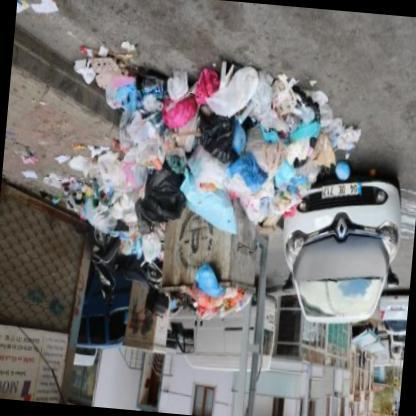Garbage: (169, 49, 324, 193), (57, 19, 147, 197), (254, 77, 348, 168), (11, 131, 109, 212), (208, 64, 268, 126), (80, 49, 147, 99), (166, 282, 249, 322), (150, 84, 214, 127), (126, 122, 172, 174), (144, 172, 184, 219), (90, 160, 122, 216), (22, 0, 62, 33), (234, 160, 264, 198), (115, 228, 144, 260), (194, 267, 219, 299), (140, 233, 161, 264)
